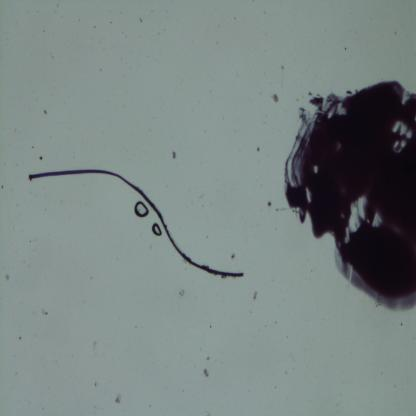Air bubble: (133, 200, 149, 219), (152, 222, 163, 237)
Background material: (178, 288, 186, 298), (252, 288, 258, 301), (271, 94, 279, 103), (202, 368, 209, 378), (115, 394, 122, 404), (92, 340, 97, 353), (172, 146, 176, 161), (229, 254, 236, 262), (137, 16, 144, 24), (198, 192, 204, 200), (42, 110, 48, 117), (204, 410, 211, 416), (256, 145, 260, 154), (279, 64, 285, 70), (268, 199, 272, 207), (94, 382, 98, 388), (206, 356, 210, 362), (208, 324, 213, 328), (50, 55, 55, 59), (39, 156, 43, 160), (92, 410, 96, 414), (92, 25, 96, 29), (134, 326, 138, 330), (149, 404, 152, 408), (202, 204, 204, 209), (78, 17, 80, 22), (249, 311, 252, 314), (258, 329, 261, 332), (110, 20, 112, 24), (93, 405, 95, 408), (182, 389, 184, 392), (265, 326, 267, 327)
Microfibre: (28, 167, 245, 278)
Pen: (283, 81, 416, 316)
